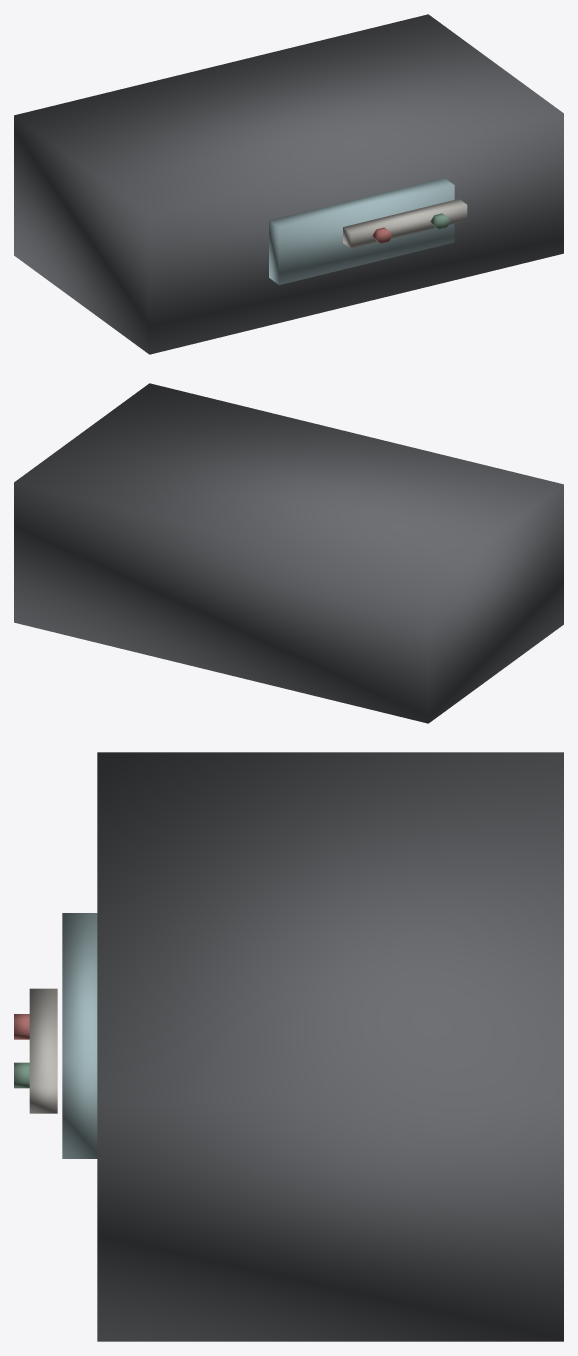
The model's file is cassette_deck__squat.glb.
The picture shows the model from 3 angles, top to bottom: view 1: azimuth 30°, elevation 25°; view 2: azimuth 150°, elevation 25°; view 3: azimuth 270°, elevation 25°; orthographic projection. The views are drawn at different scales.
Visible parts, largest first — view 1: world; view 2: world; view 3: world.
Boxes of the visible parts, x1,y1,x2,y2 form: world: (14, 14, 563, 354); world: (14, 383, 563, 723); world: (14, 752, 563, 1341).
Size of the model in its own units: 0.572 by 0.1848 by 0.3818.
